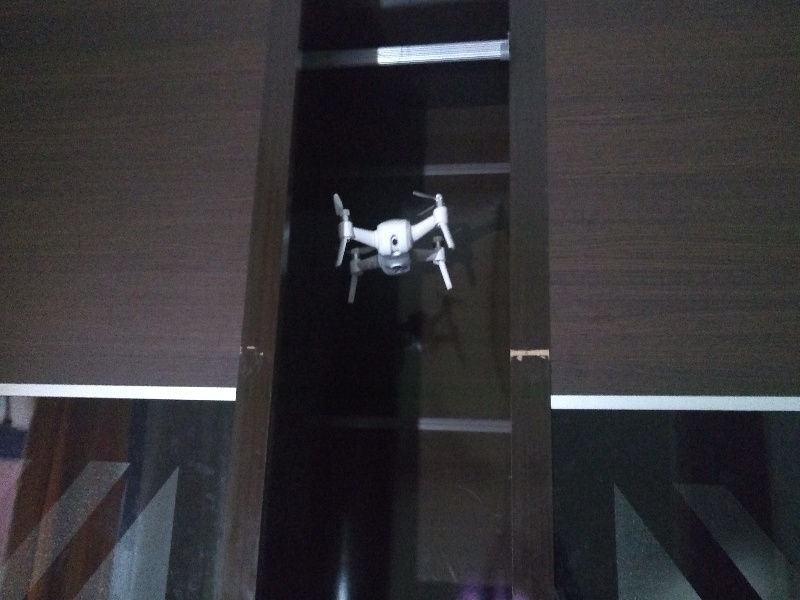drone: (322, 183, 463, 304)
